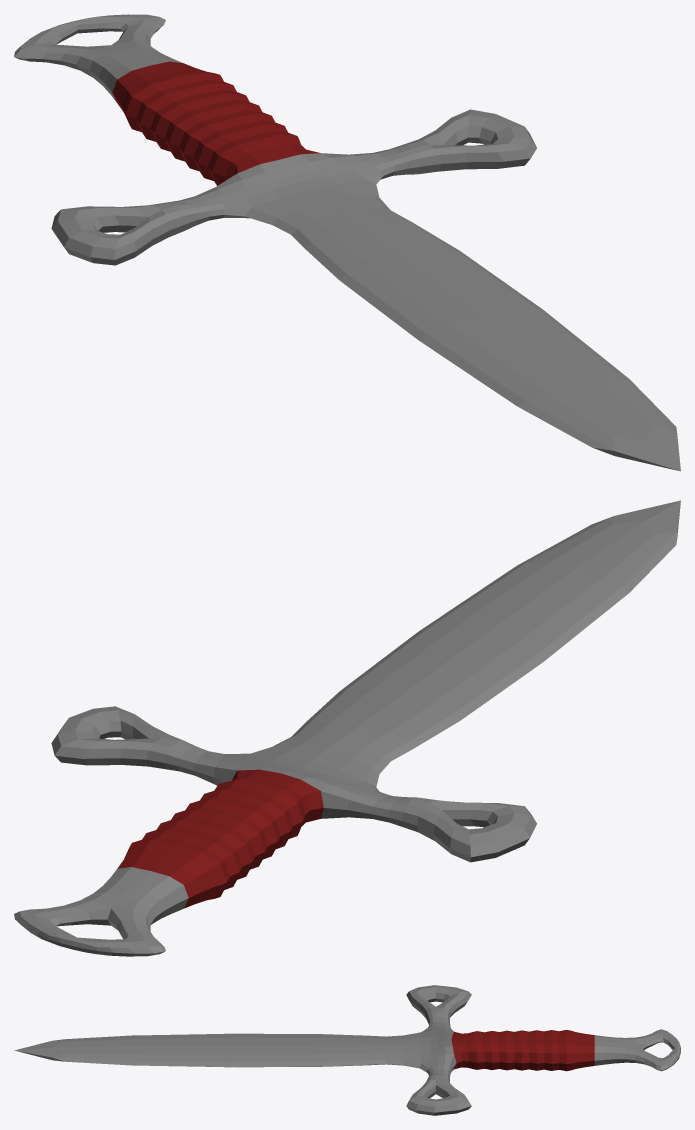
File: dagger.fbx
3 renders of one model, top to bottom at view 1: azimuth 30°, elevation 25°; view 2: azimuth 150°, elevation 25°; view 3: azimuth 270°, elevation 25°, orthographic. The views are drawn at different scales.
Parts seen in each view (by area): view 1: Cube; view 2: Cube; view 3: Cube.
Part boxes in pixels (left/top/right/bottom): Cube: left=14, top=14, right=680, bottom=471; Cube: left=14, top=500, right=680, bottom=956; Cube: left=14, top=985, right=680, bottom=1115.
Bounding box in the file's own units: 223 × 22.41 × 506.
